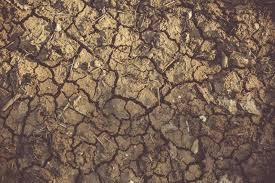dirt: (2, 1, 272, 178)
